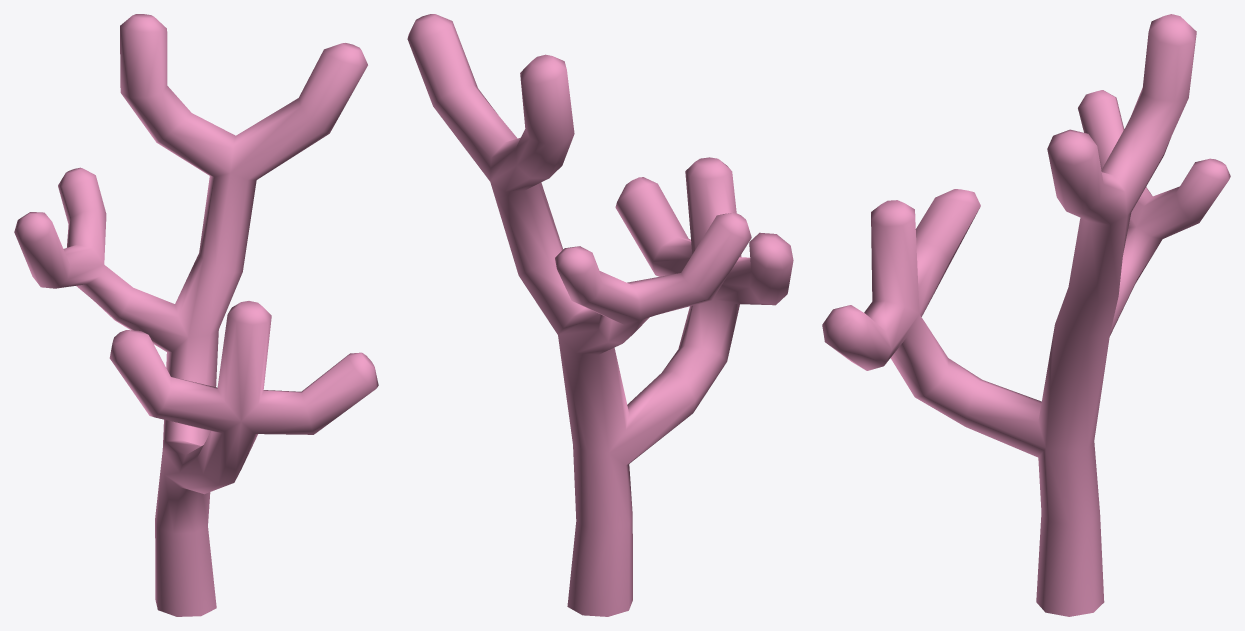
File: Sea_plant_1_3.002.fbx
3 renders of one model, left to right at view 1: azimuth 30°, elevation 25°; view 2: azimuth 150°, elevation 25°; view 3: azimuth 270°, elevation 25°, orthographic. The views are drawn at different scales.
Parts seen in each view (by area): view 1: Sea_plant_1_3.002; view 2: Sea_plant_1_3.002; view 3: Sea_plant_1_3.002.
Part boxes in pixels (<box>): Sea_plant_1_3.002: <box>14,14,378,616</box>; Sea_plant_1_3.002: <box>407,14,793,616</box>; Sea_plant_1_3.002: <box>822,14,1230,616</box>.
Size of the model in its own units: 0.701 by 1.11 by 0.6982.
